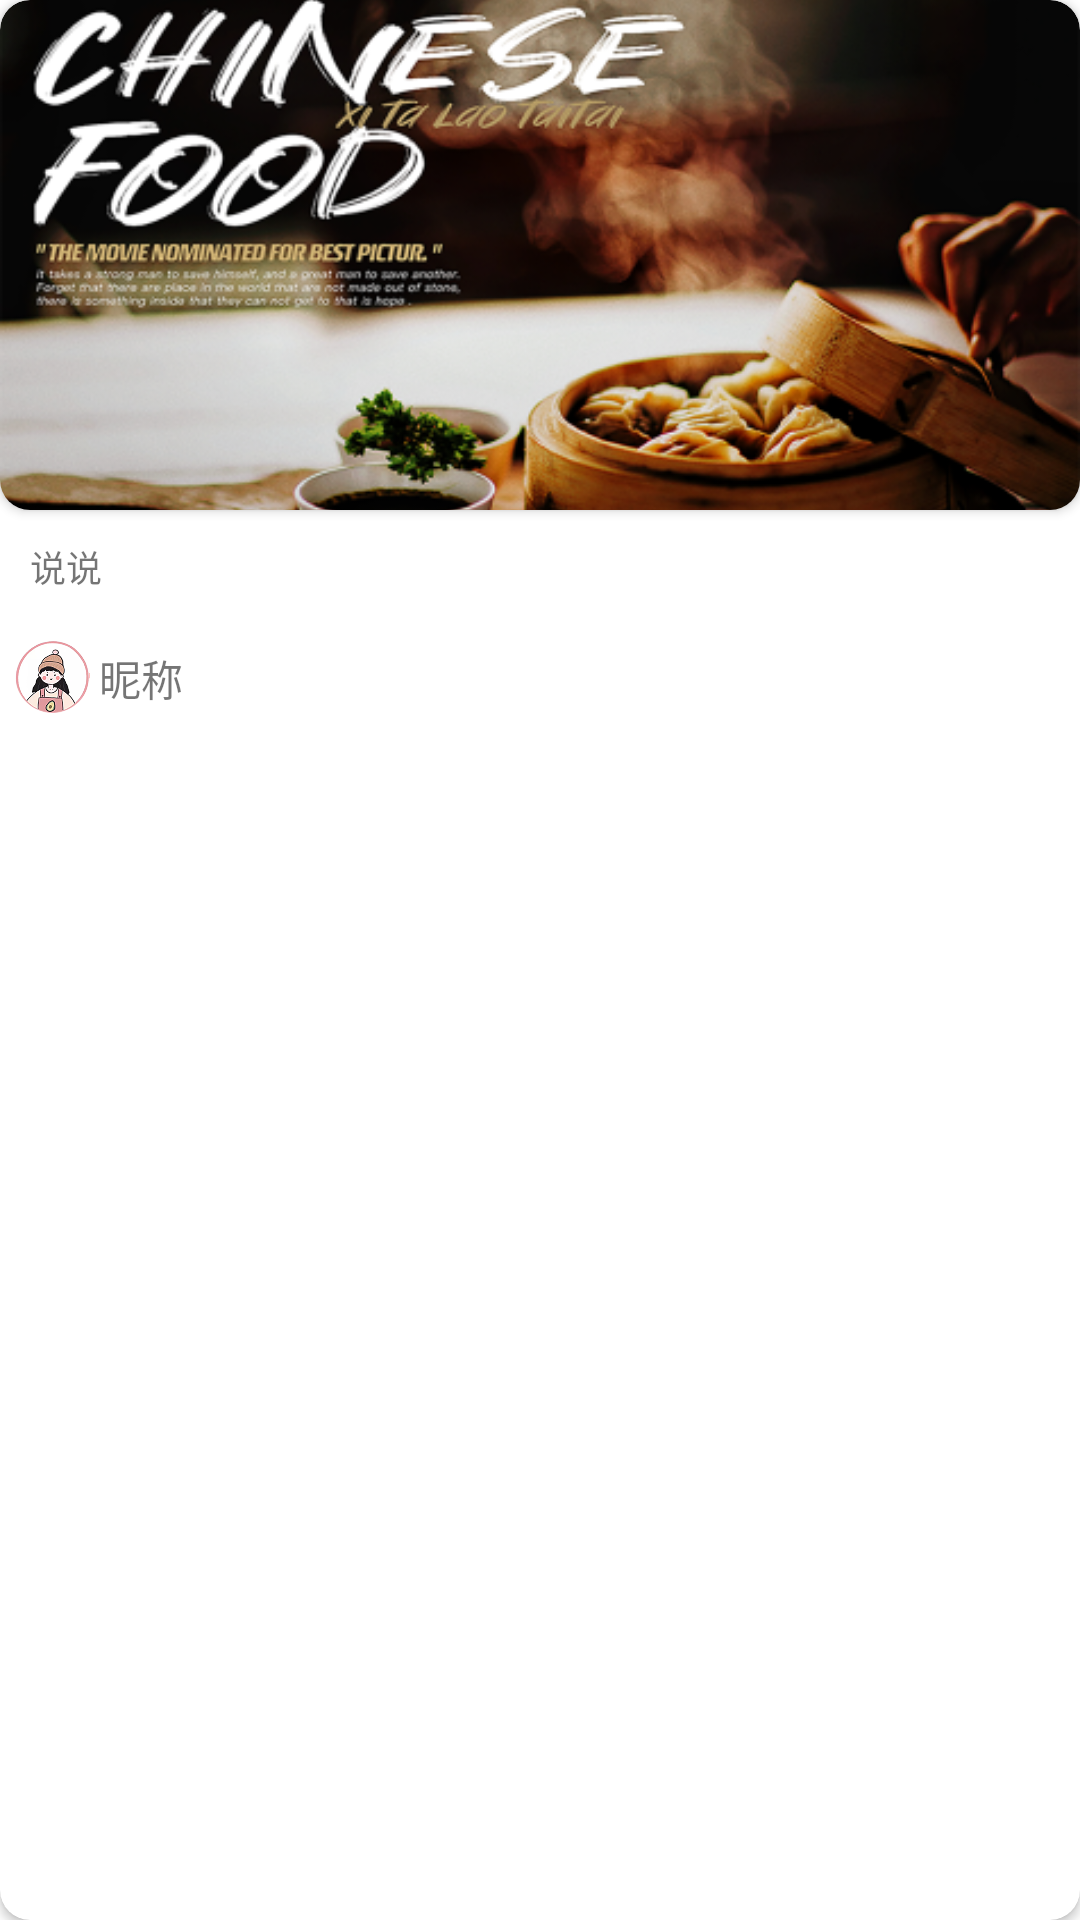

Locate icon controls on the screen. Image size 1080px x 1920px, boxes as (x1, y1, x2, y2).
head: (16, 641, 90, 713)
